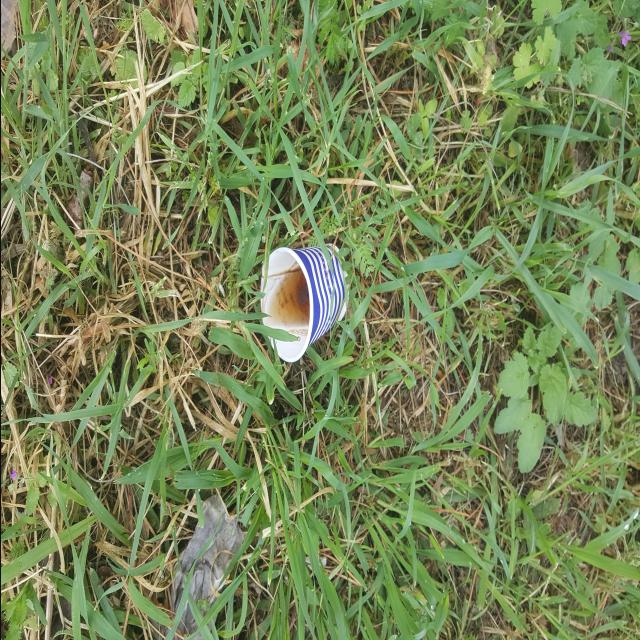Paper cup: (260, 244, 348, 363)
Unlabeled litter: (147, 494, 243, 640)
